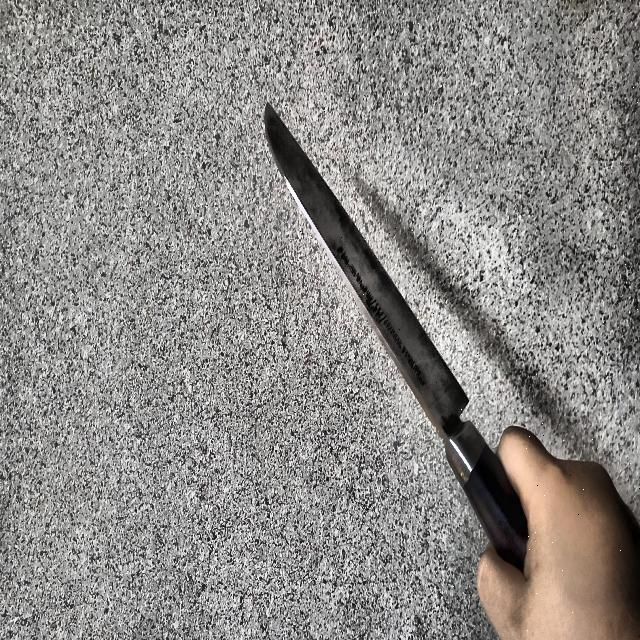knife: (264, 95, 530, 577)
